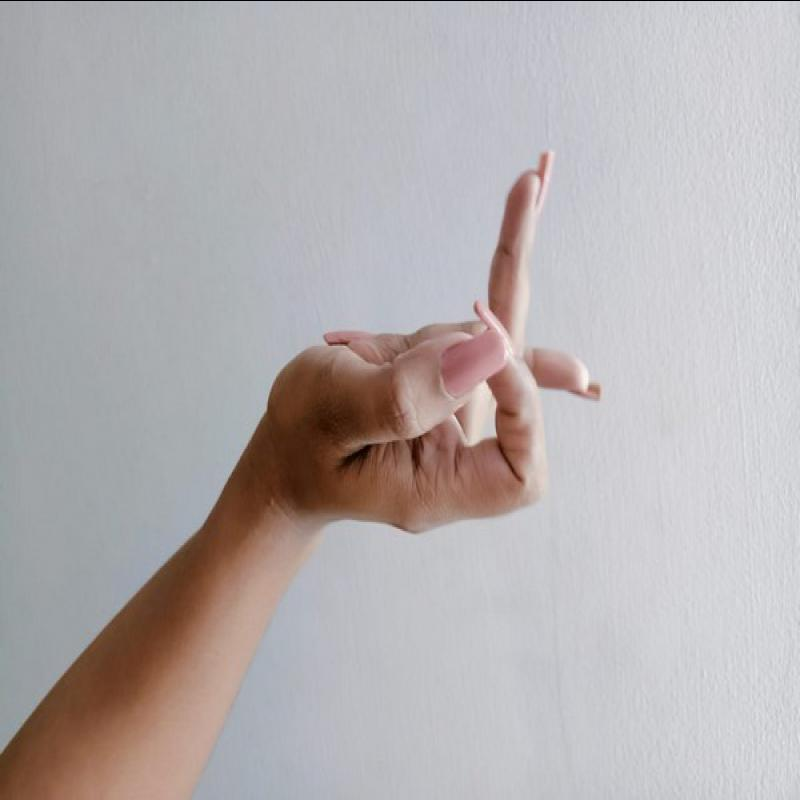Katakam: (242, 143, 674, 566)
